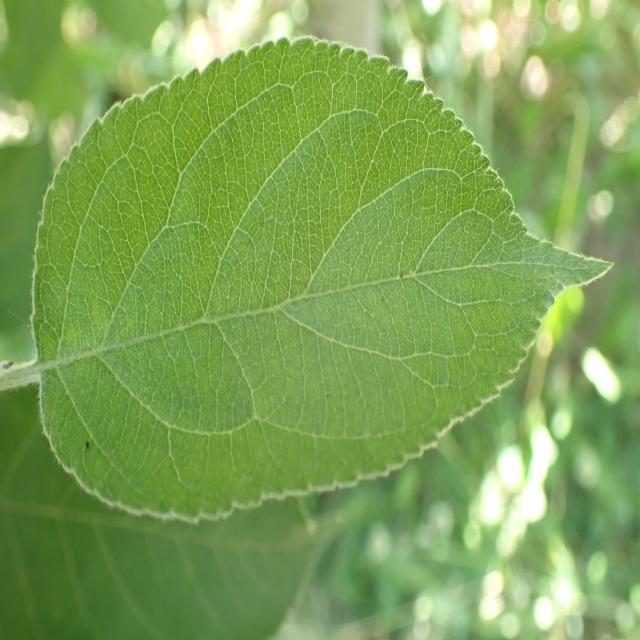healthy: (31, 36, 615, 522), (0, 366, 350, 640)
